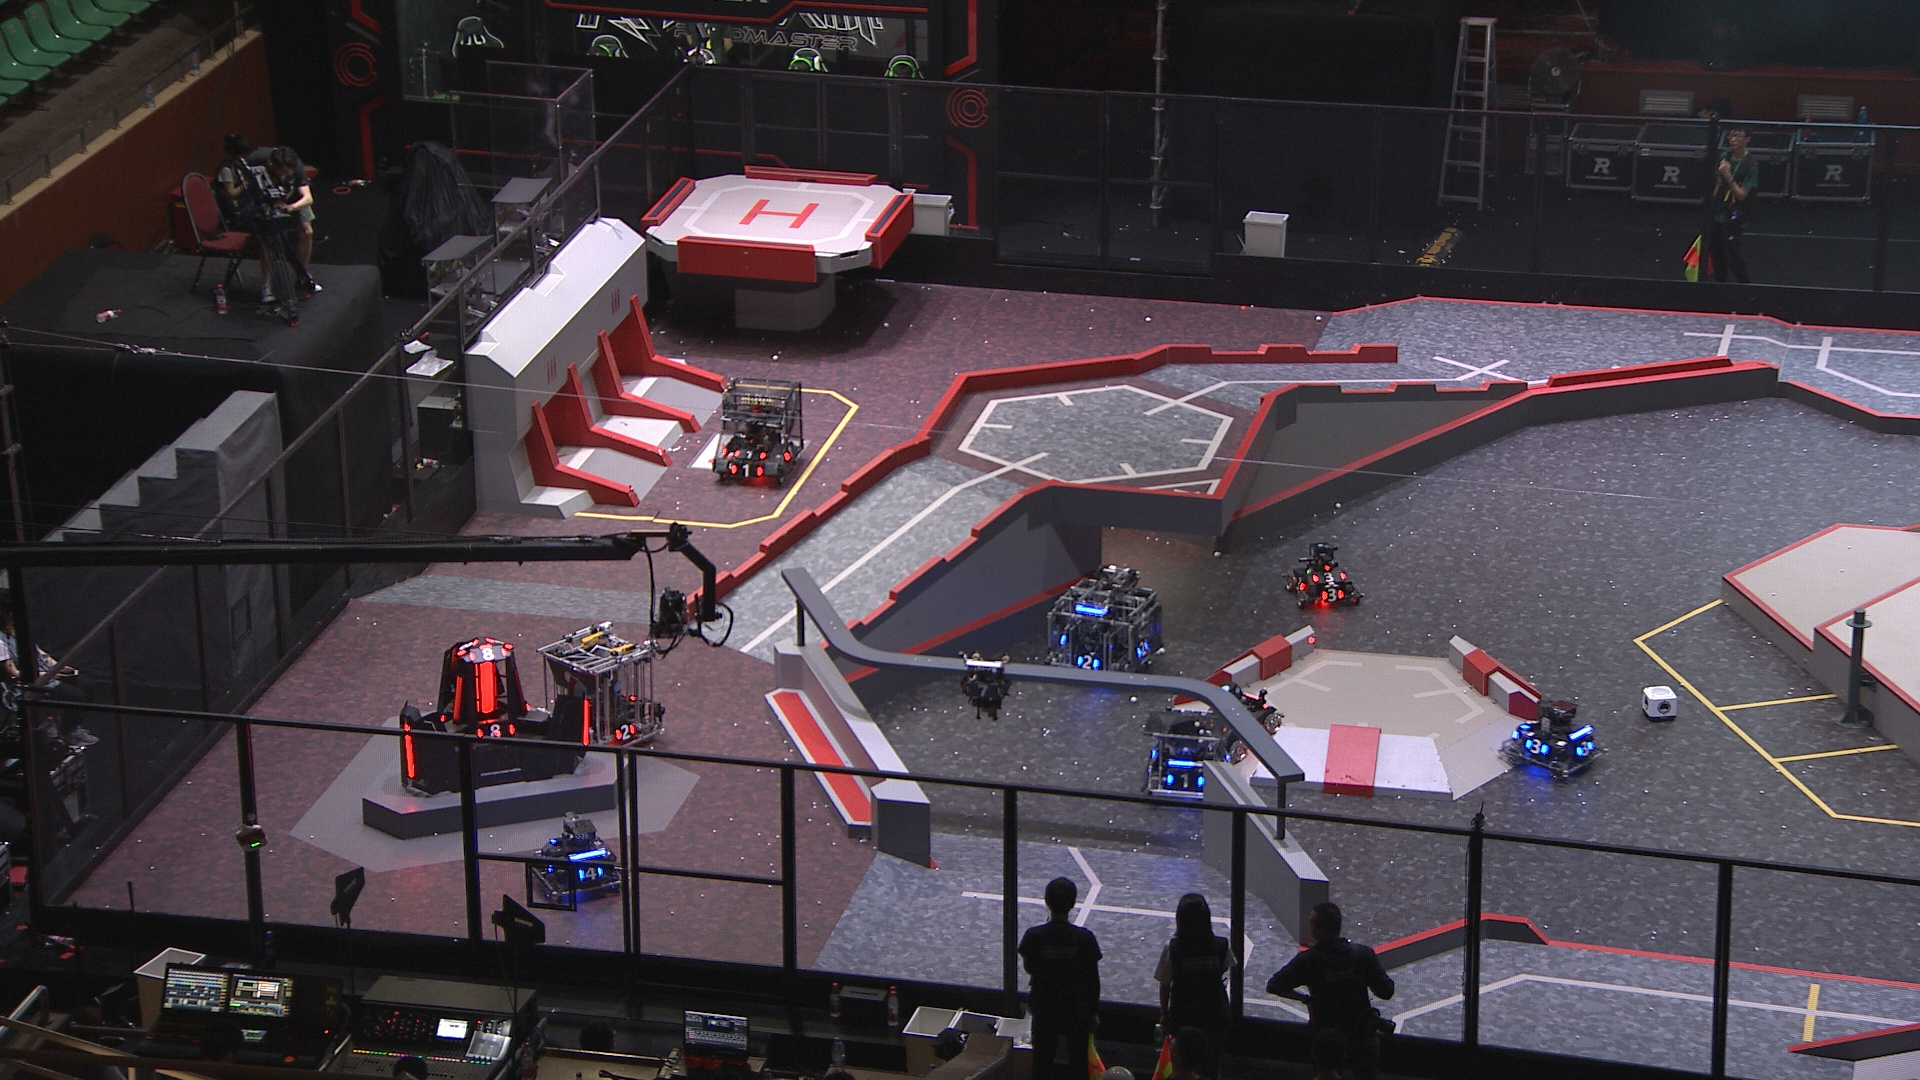armor: (472, 661, 498, 716), (473, 723, 517, 740), (404, 723, 415, 782), (731, 463, 766, 481), (1167, 773, 1205, 790), (452, 676, 465, 723), (468, 646, 509, 661), (575, 864, 603, 884), (965, 684, 1000, 700), (612, 725, 641, 744), (1522, 738, 1549, 756), (1307, 572, 1346, 584), (1076, 654, 1101, 671), (1288, 578, 1309, 597), (1323, 588, 1346, 605), (582, 698, 589, 746), (733, 447, 769, 458), (1572, 741, 1596, 756), (455, 638, 473, 655), (1518, 717, 1538, 732), (1133, 641, 1149, 657), (785, 446, 798, 463)
base: (396, 632, 593, 799)
car: (541, 618, 669, 757), (1040, 560, 1164, 688), (709, 376, 803, 489), (1135, 708, 1238, 800), (1501, 700, 1605, 783), (526, 808, 622, 898), (1193, 680, 1278, 764), (1278, 543, 1366, 613)
watcher: (959, 651, 1011, 717)
